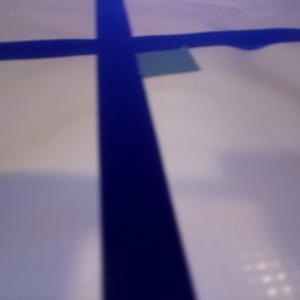bottom_right: (144, 38, 236, 75)
top_left: (50, 103, 181, 183), (268, 22, 300, 50)
